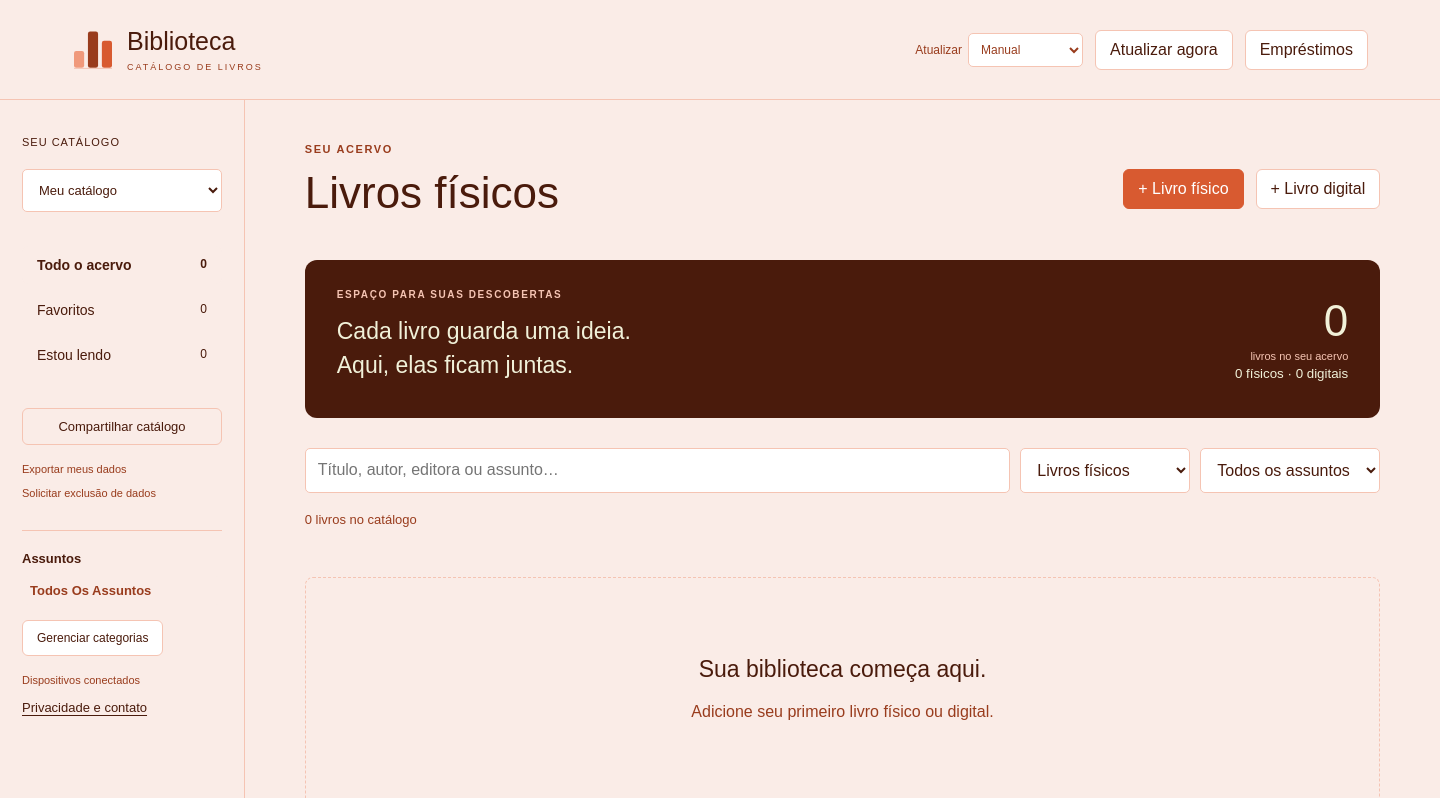
Scenario: catálogo web › identifica o autor da anotação compartilhada
The image size is (1440, 798).
Expected: the button "+ Livro digital" is shown, x1=1256 y1=169 x2=1380 y2=209
Select "Livros digitais" in the dropdown named "Tipo de livro": x=1105, y=470 x1=1020 y1=448 x2=1190 y2=493
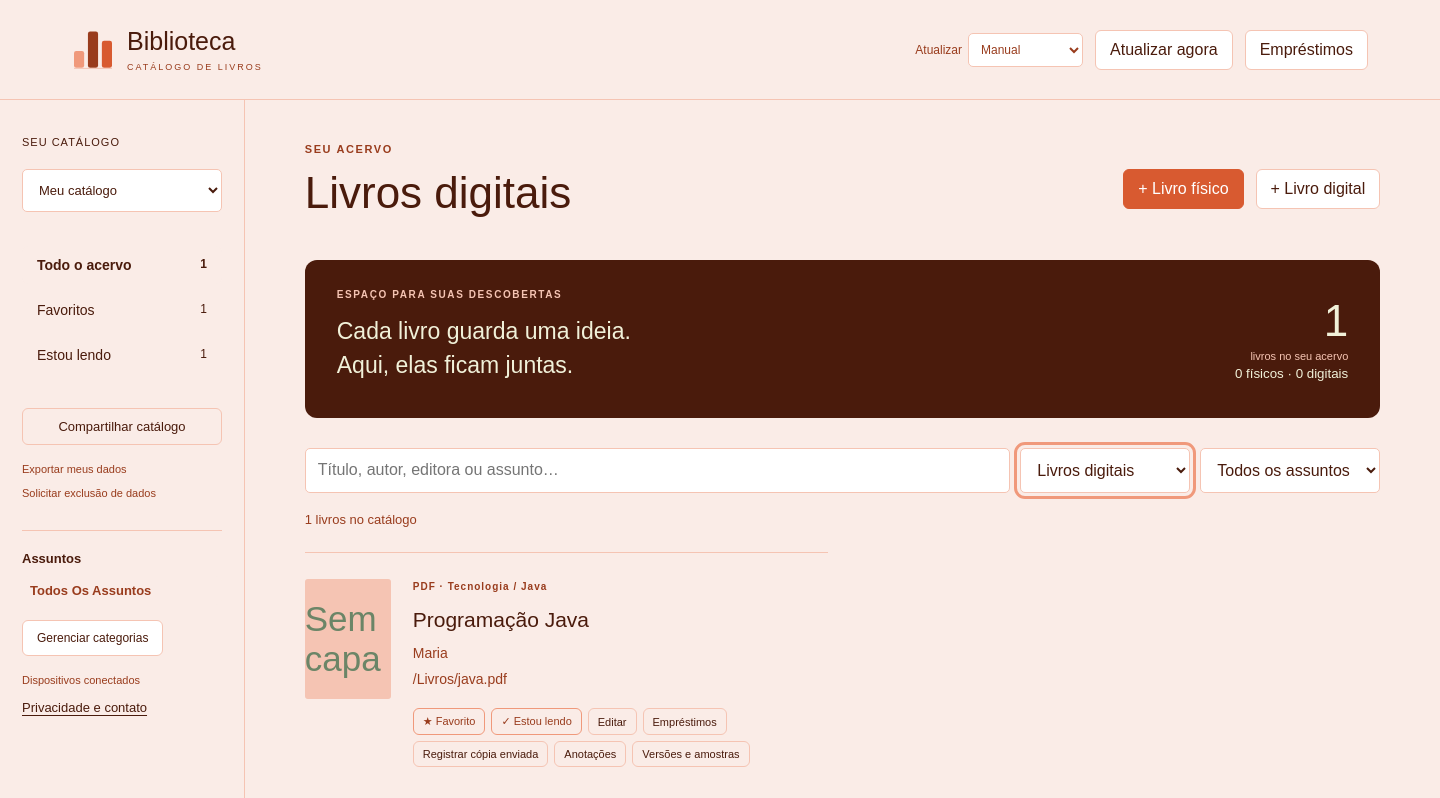
Result: the heading "Programação Java" is shown at x1=413 y1=608 x2=589 y2=631
Click the button "Anotações": x=590, y=754 x1=554 y1=741 x2=626 y2=767
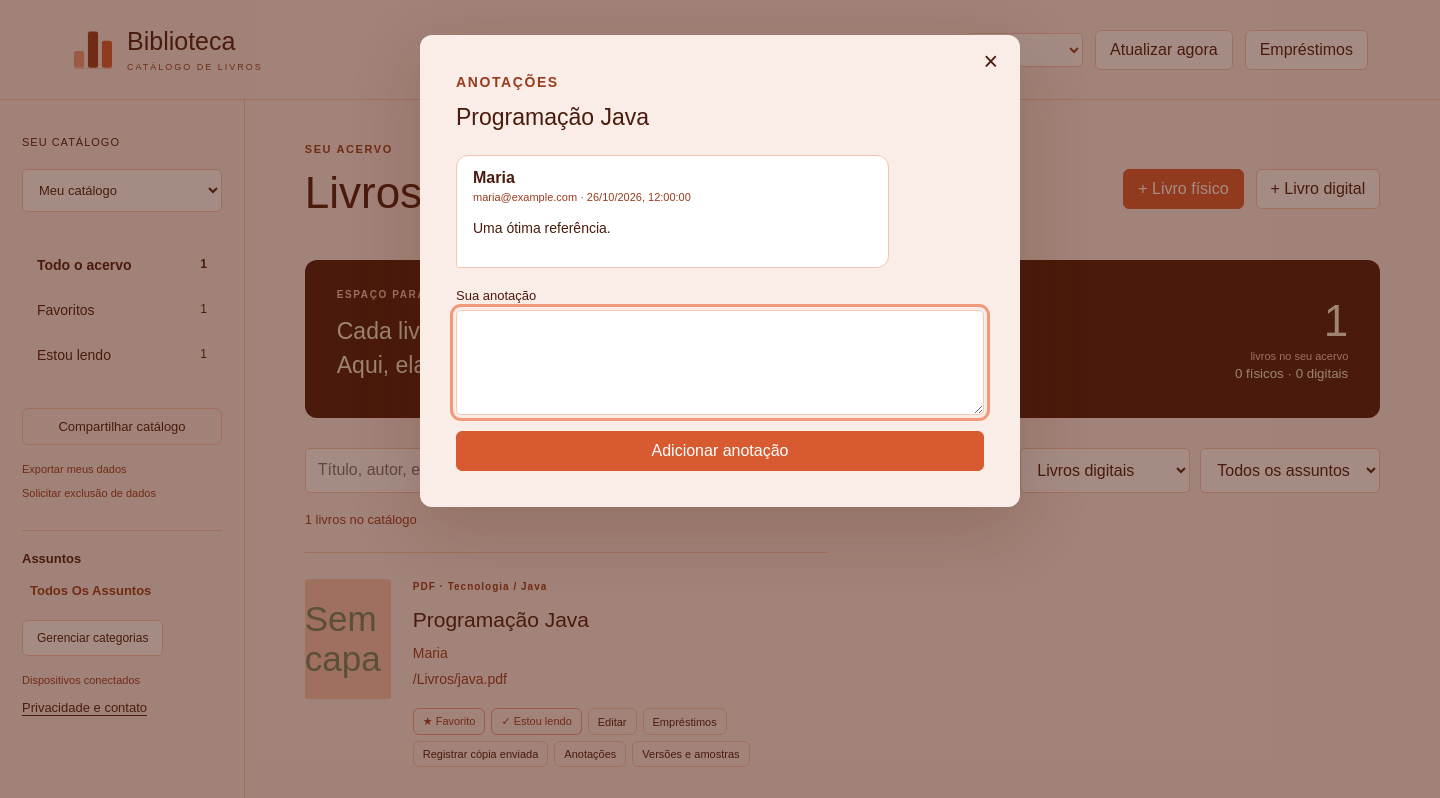
Result: the text "Maria" is shown at x1=473 y1=169 x2=515 y2=186
Result: the text "maria@example.com · 26/10/2026, 12:00:00" is shown at x1=473 y1=191 x2=691 y2=203
Result: the text "Uma ótima referência." is shown at x1=473 y1=220 x2=611 y2=236
